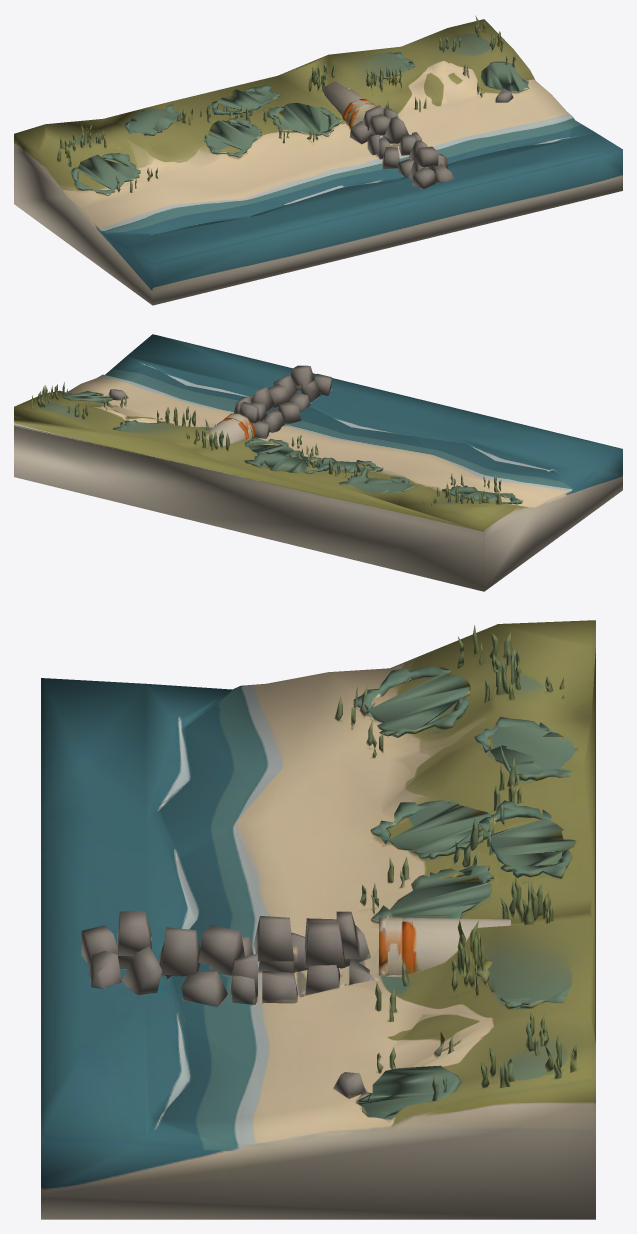
File: original_glb.glb
3 renders of one model, top to bottom at view 1: azimuth 30°, elevation 25°; view 2: azimuth 150°, elevation 25°; view 3: azimuth 270°, elevation 25°, orthographic. The views are drawn at different scales.
Parts seen in each view (by area): view 1: Shoreline Edge; view 2: Shoreline Edge; view 3: Shoreline Edge.
Boxes of the visible parts, x1=… form: Shoreline Edge: x1=14, y1=15, x2=622, y2=305; Shoreline Edge: x1=14, y1=334, x2=622, y2=591; Shoreline Edge: x1=41, y1=620, x2=595, y2=1219.
Bounding box in the file's own units: 0.998 × 0.1699 × 0.5098.
1 material, 1 textured.
